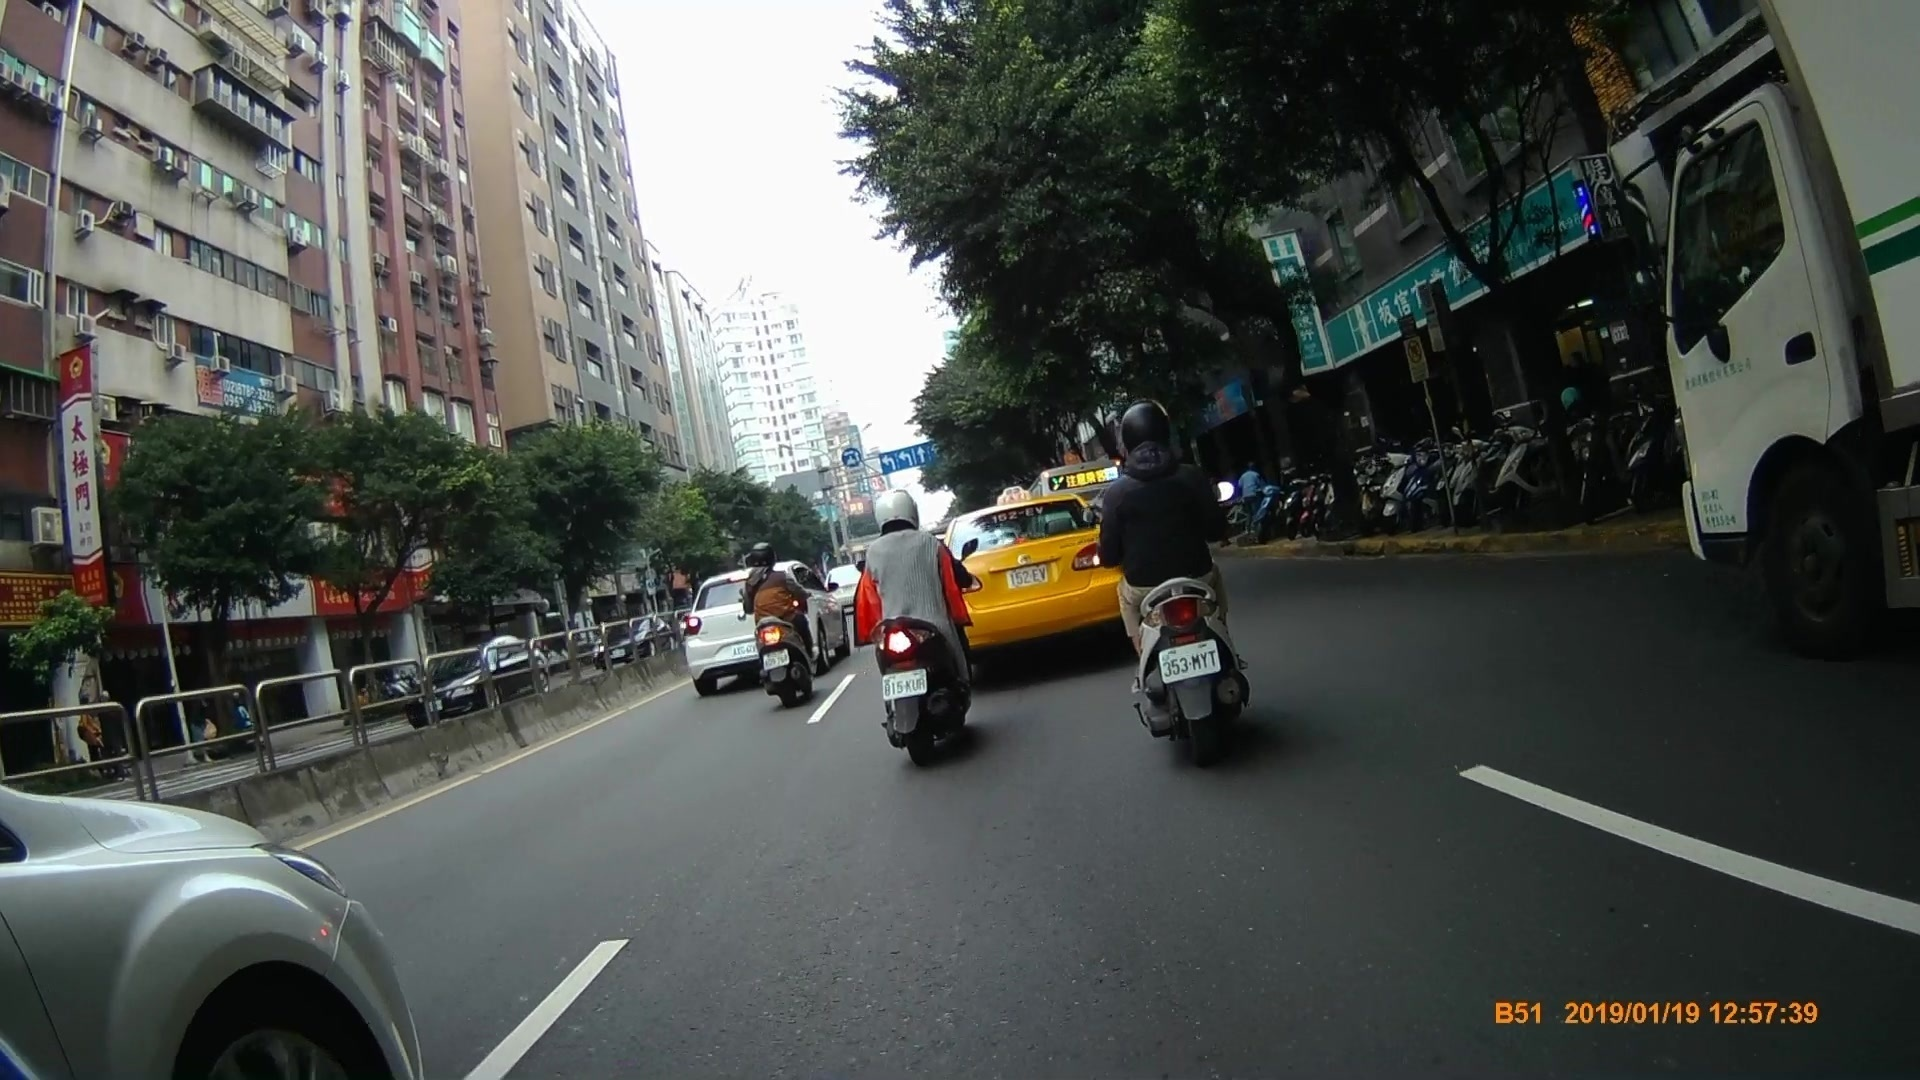License_plate: (1152, 640, 1228, 685), (878, 669, 932, 701), (1002, 567, 1057, 591), (758, 648, 794, 672)
